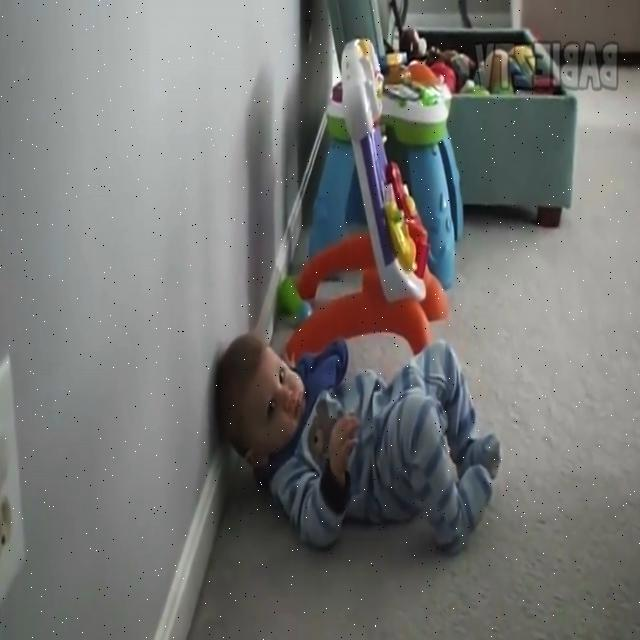child: (214, 331, 498, 553)
